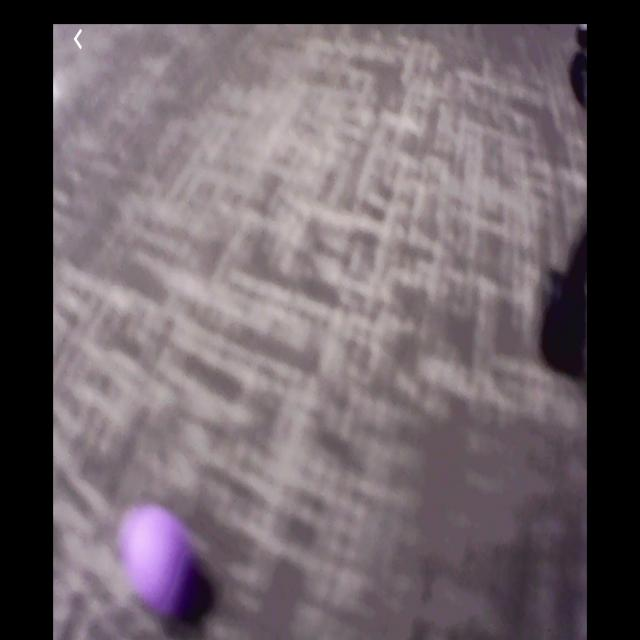ball: (126, 504, 201, 620)
